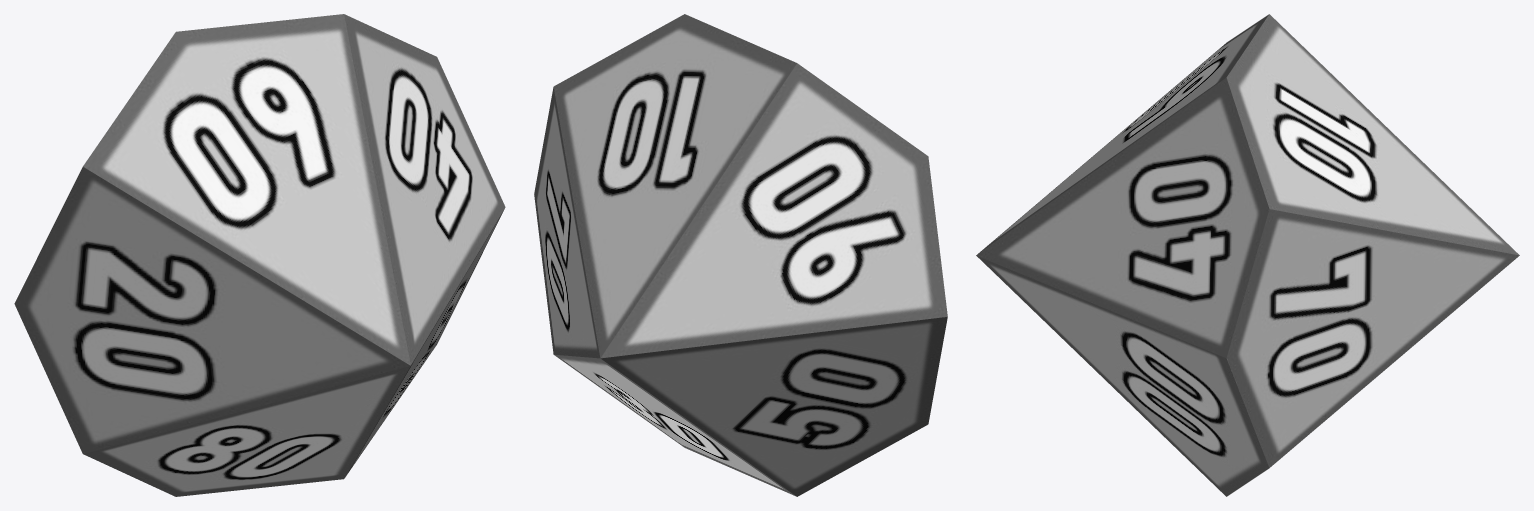
The picture shows the model from 3 angles, left to right: view 1: azimuth 30°, elevation 25°; view 2: azimuth 150°, elevation 25°; view 3: azimuth 270°, elevation 25°; orthographic projection. The views are drawn at different scales.
Parts seen in each view (by area): view 1: NGon01; view 2: NGon01; view 3: NGon01.
Boxes of the visible parts, left/top/right/bottom form: NGon01: left=14, top=14, right=505, bottom=496; NGon01: left=534, top=14, right=947, bottom=496; NGon01: left=976, top=14, right=1519, bottom=496.
Size of the model in its own units: 0.2677 by 0.2546 by 0.2992.
Materials: 1 (1 with a texture image).
